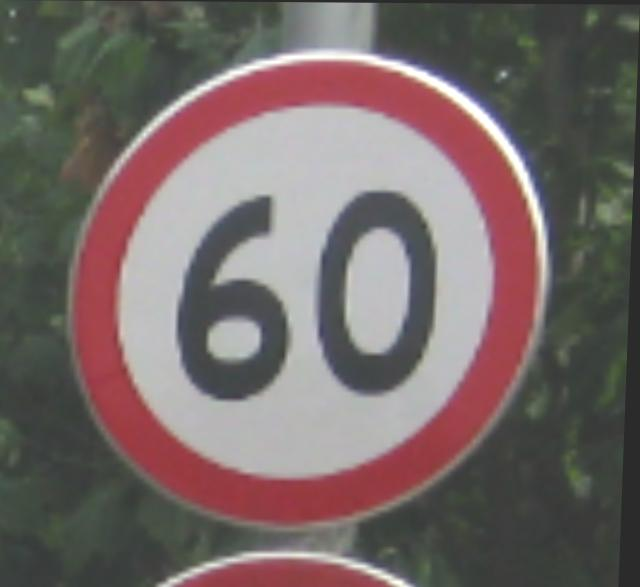limit60: (45, 34, 576, 539)
